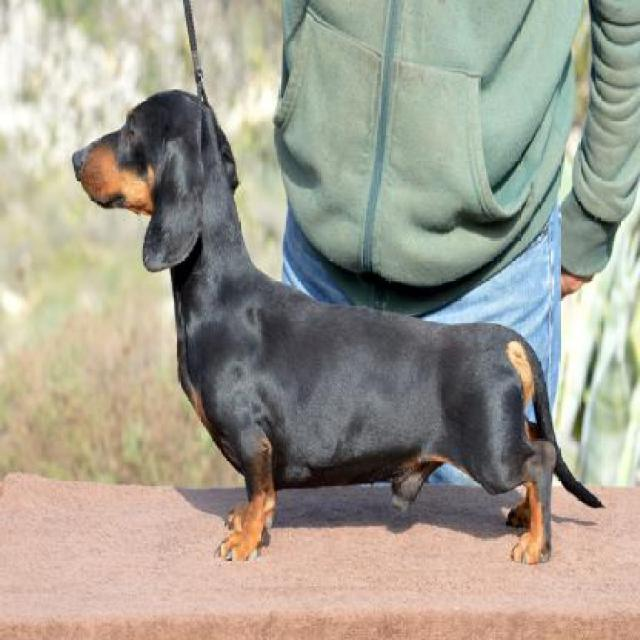Dog: (69, 78, 608, 577)
